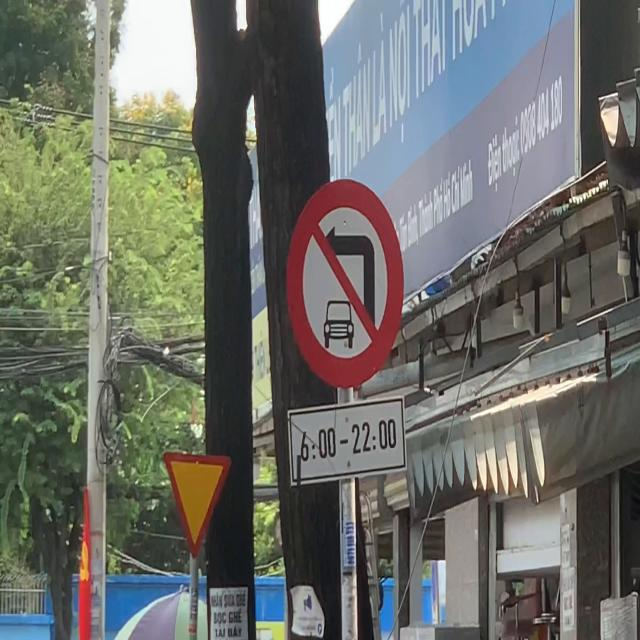Cam re trai: (286, 179, 404, 389)
Giao voi duong uu tien: (161, 452, 233, 562)
